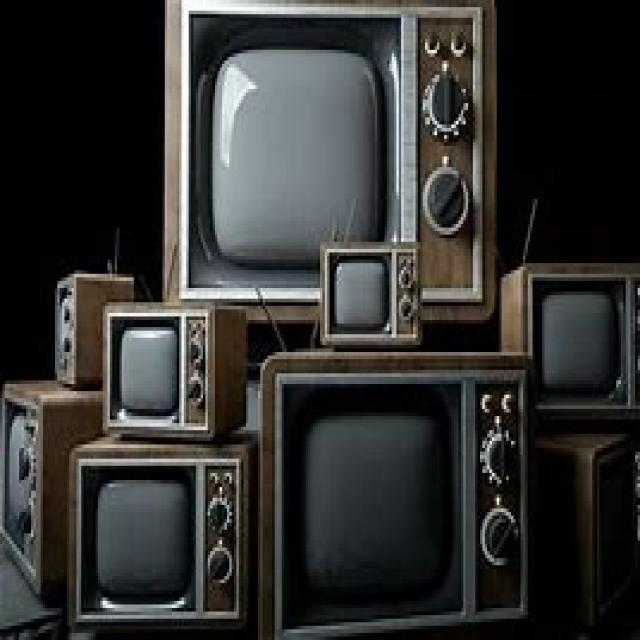tv: (160, 0, 497, 324), (256, 348, 530, 636), (64, 434, 256, 636), (499, 260, 638, 420), (100, 299, 246, 441)
